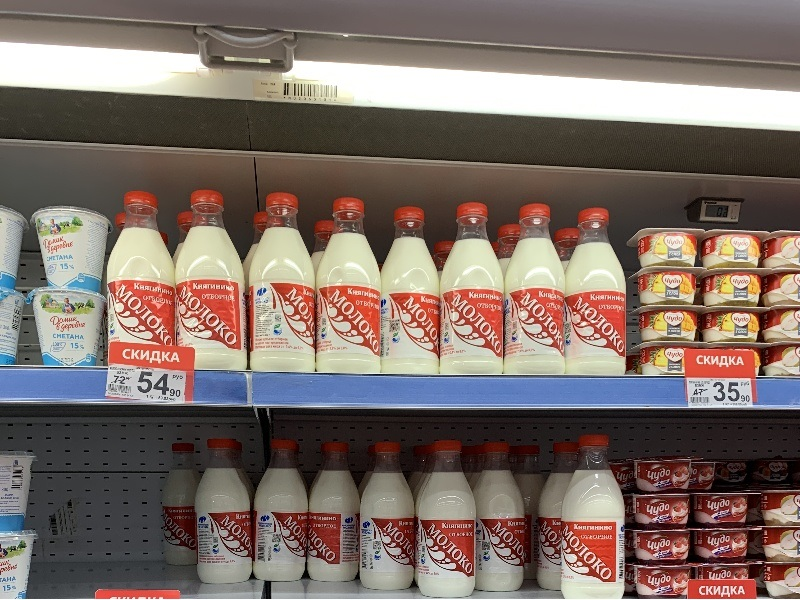milk: (175, 187, 257, 376), (242, 189, 323, 377), (310, 195, 389, 379), (98, 186, 184, 353), (553, 203, 634, 380), (439, 198, 510, 382), (502, 200, 573, 377), (380, 199, 444, 382), (560, 434, 631, 597), (187, 437, 257, 589), (355, 439, 421, 596), (420, 439, 484, 597), (468, 438, 530, 596), (303, 437, 365, 590), (250, 439, 311, 584)
